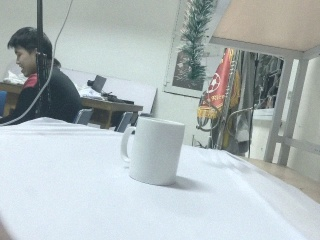cup: (123, 115, 184, 187)
